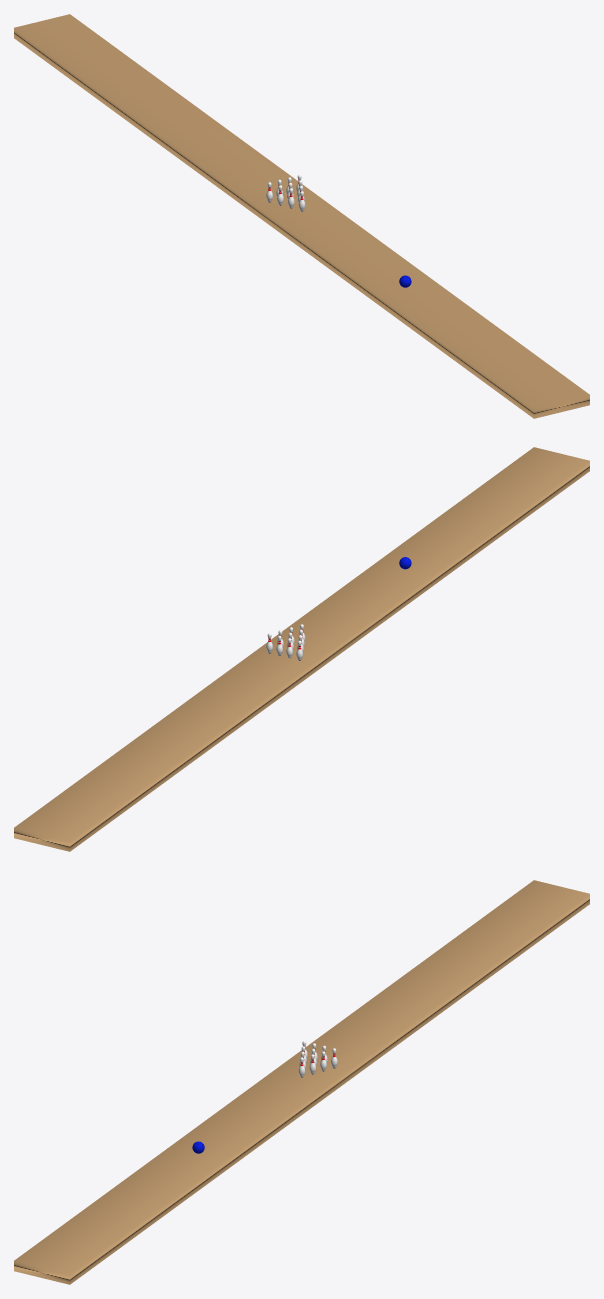
File: low_poly_bowling_ball_and_pins.glb
The picture shows the model from 3 angles, top to bottom: view 1: azimuth 30°, elevation 25°; view 2: azimuth 150°, elevation 25°; view 3: azimuth 330°, elevation 25°; orthographic projection.
Parts seen in each view (by area): view 1: Bowling Lane_0; view 2: Bowling Lane_0; view 3: Bowling Lane_0.
Boxes of the visible parts, left/top/right/bottom form: Bowling Lane_0: left=14, top=14, right=589, bottom=418; Bowling Lane_0: left=14, top=447, right=589, bottom=851; Bowling Lane_0: left=14, top=880, right=589, bottom=1284.
Bounding box in the file's own units: 0.2156 × 0.1115 × 3.47.
